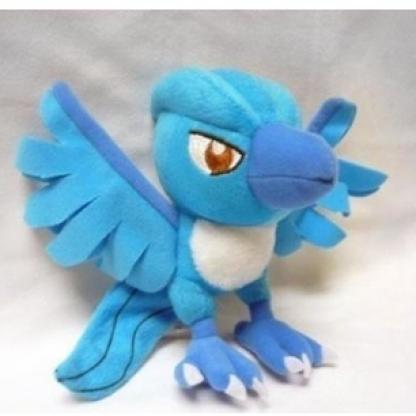Articuno: (14, 62, 393, 396)
